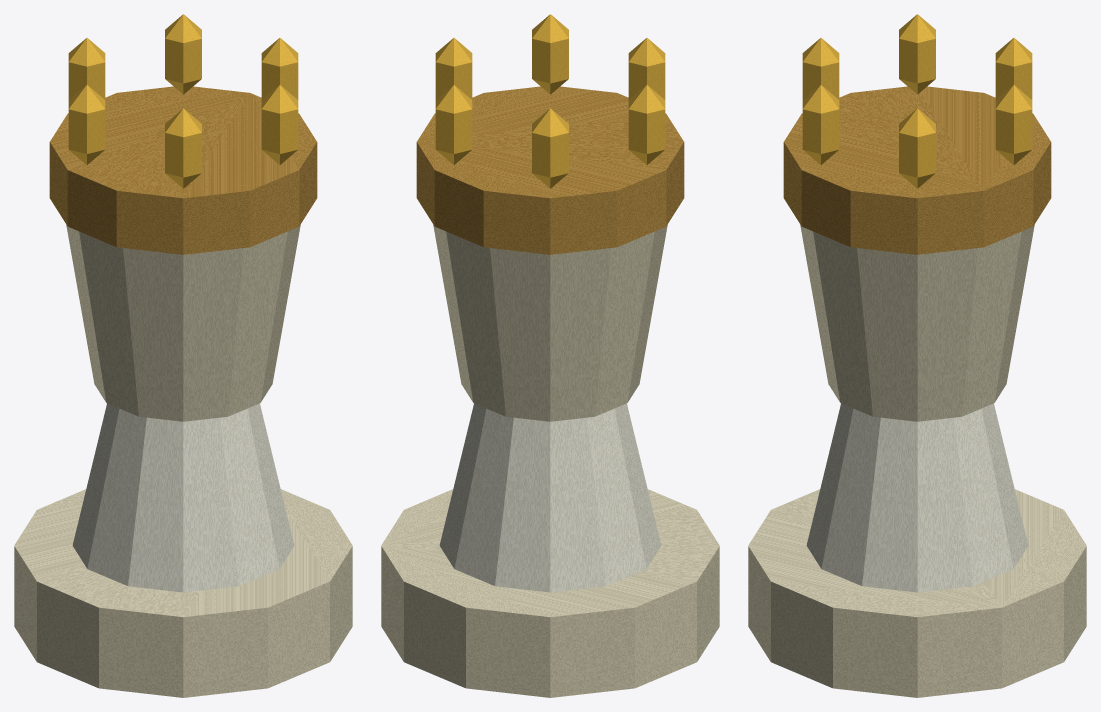
Rendered from chess_queen.glb.
3 renders of one model, left to right at view 1: azimuth 30°, elevation 25°; view 2: azimuth 150°, elevation 25°; view 3: azimuth 270°, elevation 25°, orthographic.
Visible parts, largest first — view 1: base, body, pedestal, crown, crown_point (×6); view 2: base, body, pedestal, crown, crown_point (×6); view 3: base, body, pedestal, crown, crown_point (×6).
Boxes of the visible parts, x1,y1,x2,y2 form: base: (14, 489, 352, 697); body: (66, 224, 300, 421); pedestal: (72, 403, 294, 592); crown: (49, 86, 317, 254); crown_point (×6): (68, 14, 298, 188); base: (381, 489, 719, 697); body: (433, 224, 667, 421); pedestal: (439, 403, 661, 592); crown: (416, 86, 684, 254); crown_point (×6): (435, 14, 665, 188); base: (748, 489, 1086, 697); body: (800, 224, 1034, 421); pedestal: (806, 403, 1028, 592); crown: (783, 86, 1051, 254); crown_point (×6): (802, 14, 1032, 188).
Size of the model in its own units: 0.76 by 1.4 by 0.76.
Materials: 1 (1 with a texture image).
